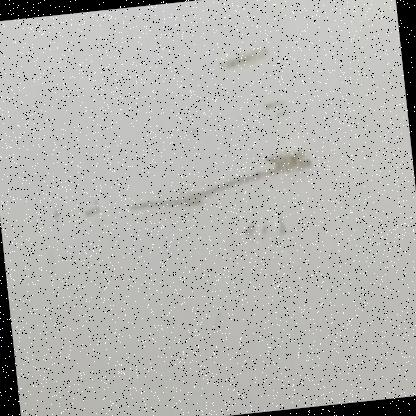Crack: (0, 6, 339, 311)
